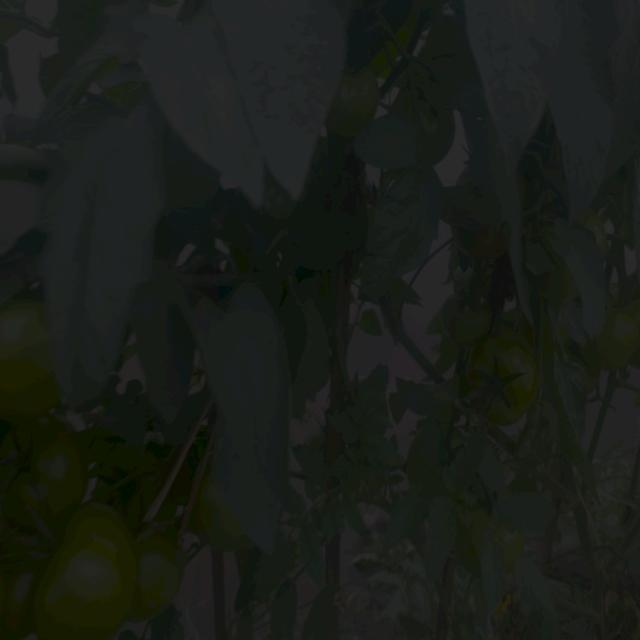tomato: (47, 509, 140, 633), (13, 418, 91, 536), (1, 290, 57, 421), (468, 338, 539, 431), (1, 543, 51, 640), (145, 528, 187, 628), (202, 494, 248, 562), (337, 63, 383, 126), (612, 296, 640, 373), (587, 214, 610, 265), (472, 492, 490, 542), (456, 256, 469, 277)
